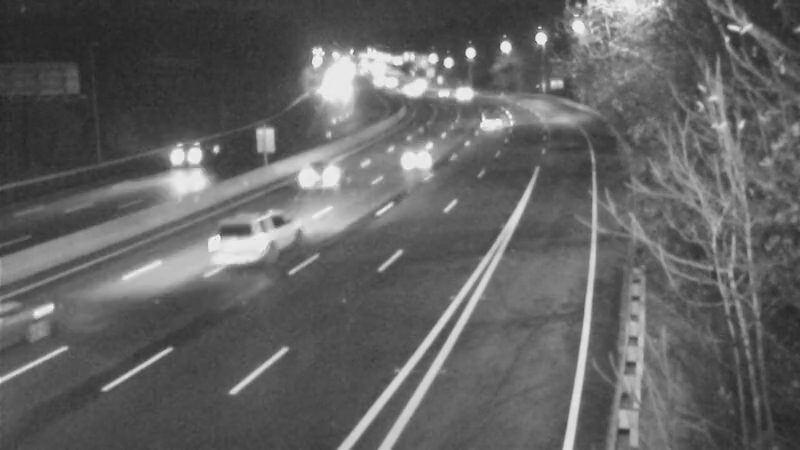vehicle: (1, 261, 86, 371), (381, 122, 461, 202), (286, 133, 366, 213), (205, 191, 285, 271), (140, 119, 220, 199), (443, 71, 493, 121), (467, 98, 517, 148)
